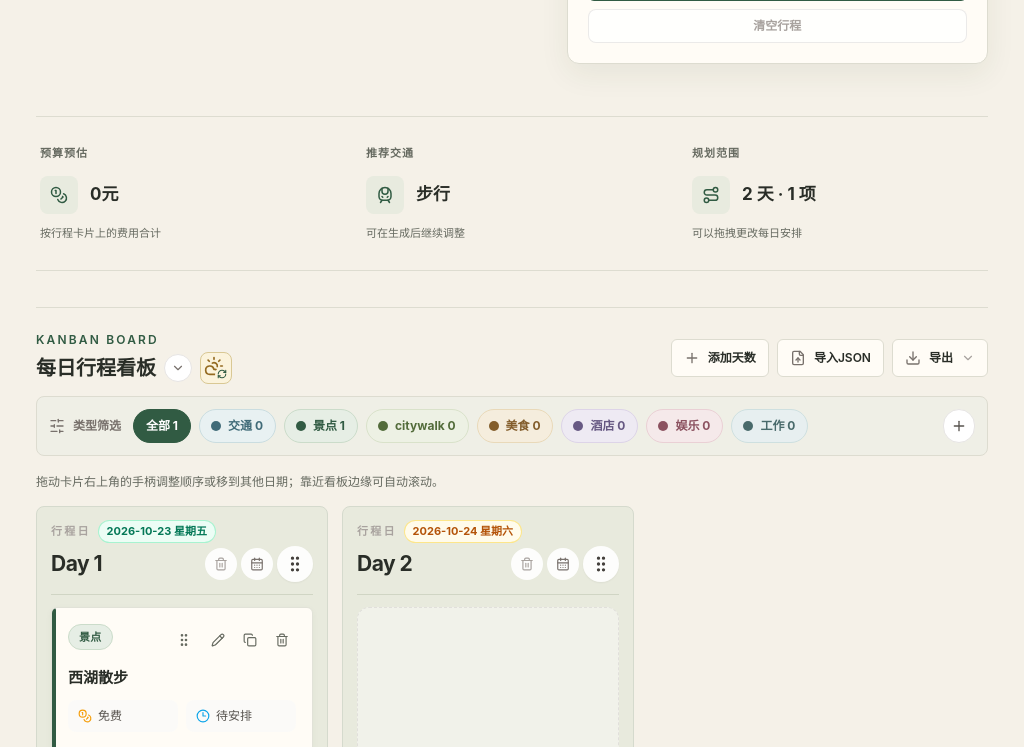
Scenario: App key interactions › discards weather if the trip date changes during the request
(page scrolled)
Click the button named "更新天气". click: (216, 368)
box: x1=200 y1=352 x2=232 y2=384
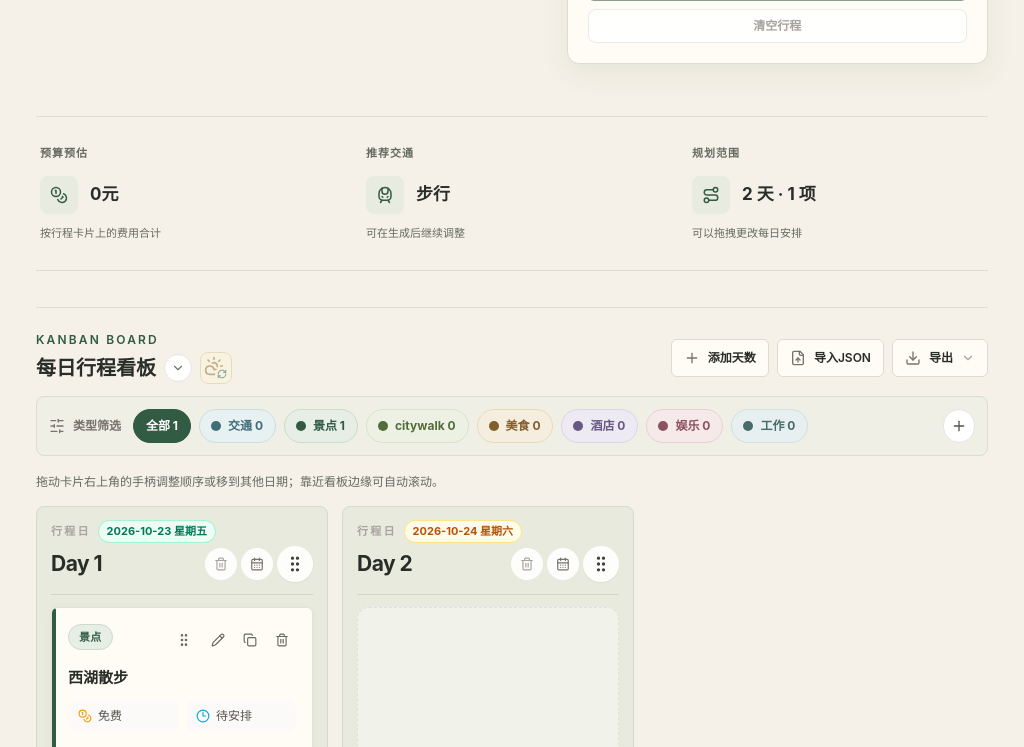
Type "2026-10-24" into the date field named "设置 Day 1 日期". click: (182, 558)
box: x1=51 y1=521 x2=313 y2=594
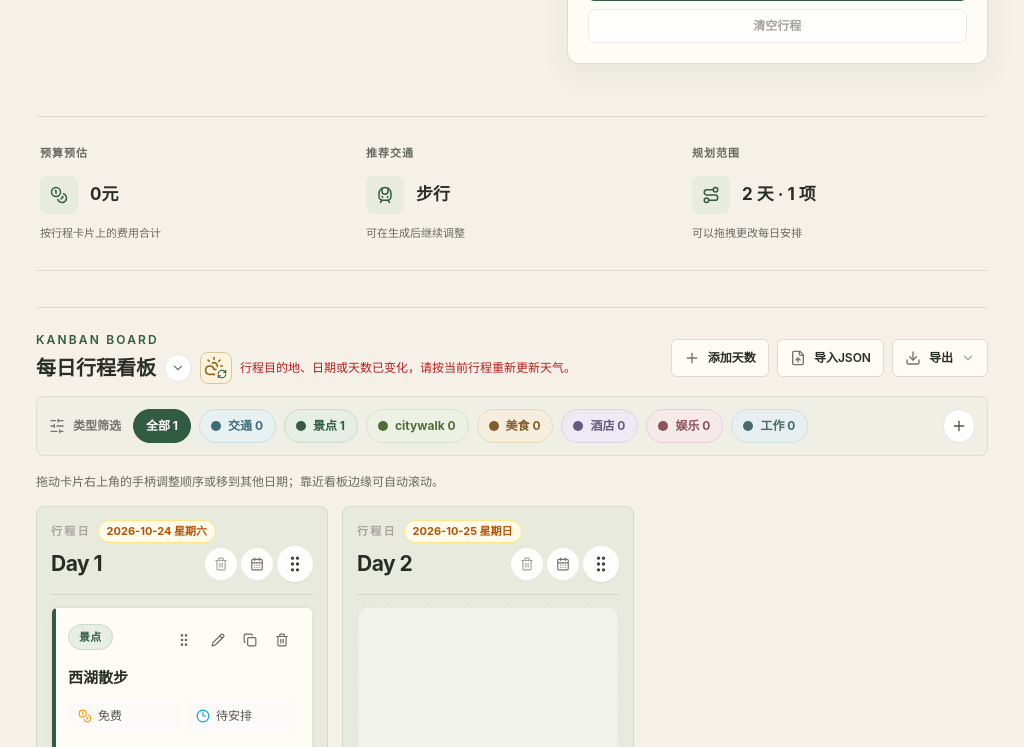
Result: the message shows "已变化" at x1=240 y1=360 x2=576 y2=376
